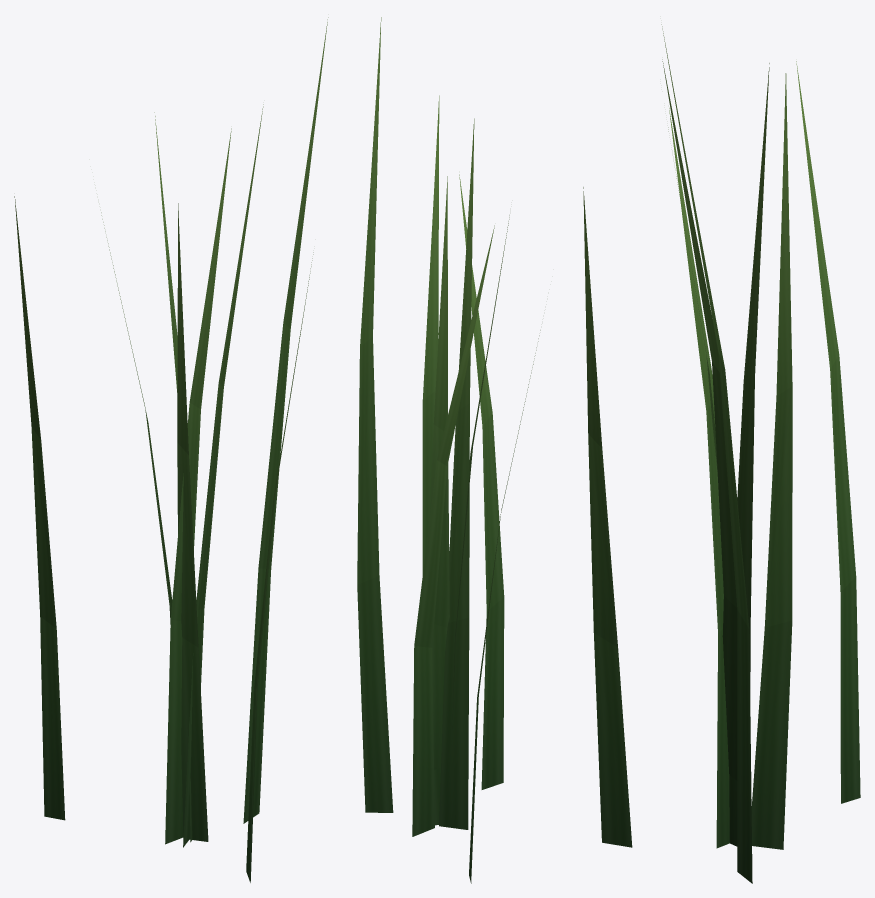
The model's file is forest_grass_002_b_LOD2.gltf.
The picture shows the model from 3 angles, left to right: view 1: azimuth 30°, elevation 25°; view 2: azimuth 150°, elevation 25°; view 3: azimuth 270°, elevation 25°; orthographic projection. The views are drawn at different scales.
Parts seen in each view (by area): view 1: forest_grass_002_b_LOD2; view 2: forest_grass_002_b_LOD2; view 3: forest_grass_002_b_LOD2.
Boxes of the visible parts, x1=… form: forest_grass_002_b_LOD2: x1=14, y1=17, x2=328, y2=882; forest_grass_002_b_LOD2: x1=357, y1=17, x2=540, y2=883; forest_grass_002_b_LOD2: x1=583, y1=24, x2=860, y2=883.
Size of the model in its own units: 0.1716 by 0.5391 by 0.1533.
Materials: 1 (1 with a texture image).
